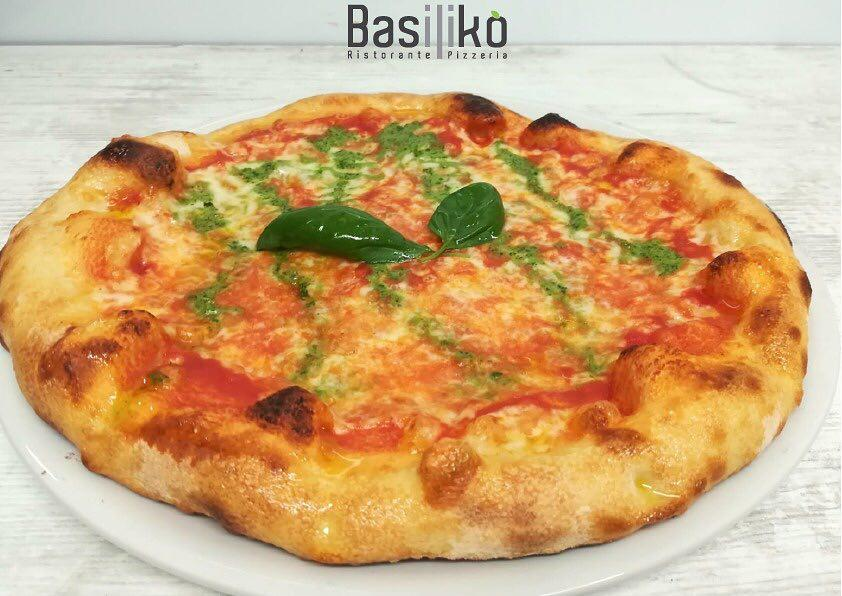Basil: (252, 202, 435, 269), (425, 179, 509, 264)
Pizza: (0, 88, 814, 563)
